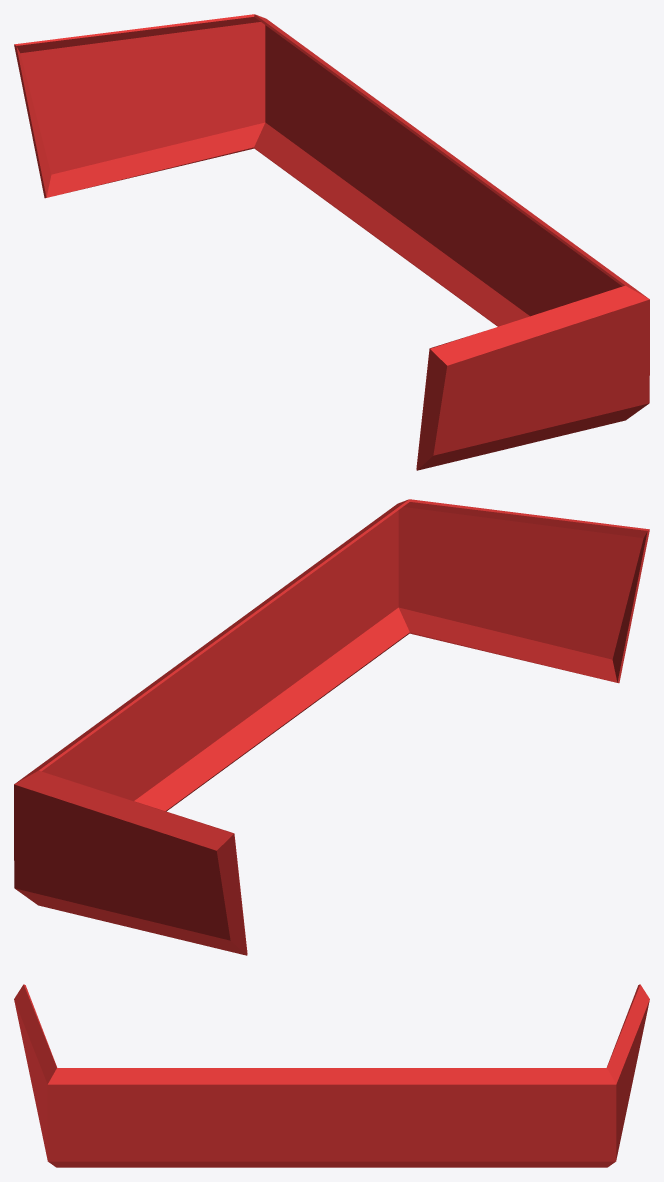
File: frontbumper.fbx
The picture shows the model from 3 angles, top to bottom: view 1: azimuth 30°, elevation 25°; view 2: azimuth 150°, elevation 25°; view 3: azimuth 270°, elevation 25°; orthographic projection. The views are drawn at different scales.
Parts seen in each view (by area): view 1: FrontBumper; view 2: FrontBumper; view 3: FrontBumper.
Boxes of the visible parts, bbox=[...] form: FrontBumper: bbox=[14, 14, 649, 470]; FrontBumper: bbox=[14, 499, 649, 955]; FrontBumper: bbox=[14, 984, 649, 1167].
Bounding box in the file's own units: 110 × 62.9 × 346.
